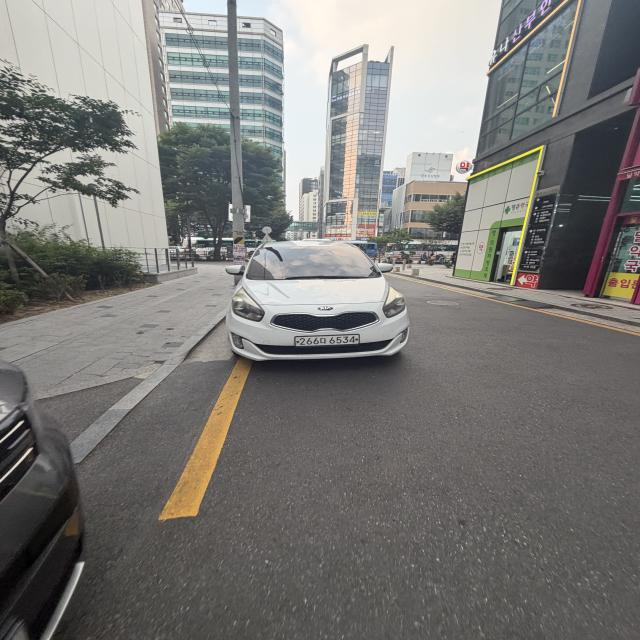car: (218, 229, 423, 374)
